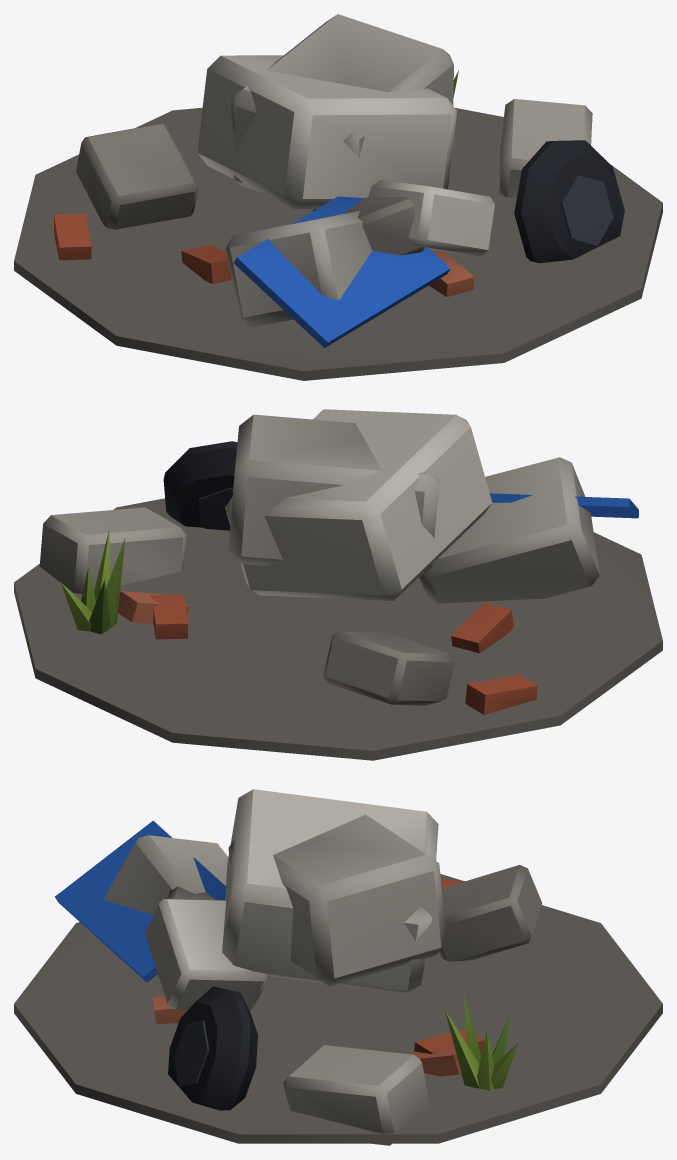
The model's file is p_st_rubble_2.glb.
3 views of the same model, one above another, from view 1: azimuth 30°, elevation 25°; view 2: azimuth 150°, elevation 25°; view 3: azimuth 270°, elevation 25° (orthographic). The views are drawn at different scales.
Visible parts, largest first — view 1: body; view 2: body; view 3: body.
Part boxes in pixels (box(x1,y1,x2,y2)): body: box(14, 14, 662, 380); body: box(14, 409, 662, 760); body: box(14, 789, 662, 1145).
Bounding box in the file's own units: 2.95 × 1.15 × 3.1.
